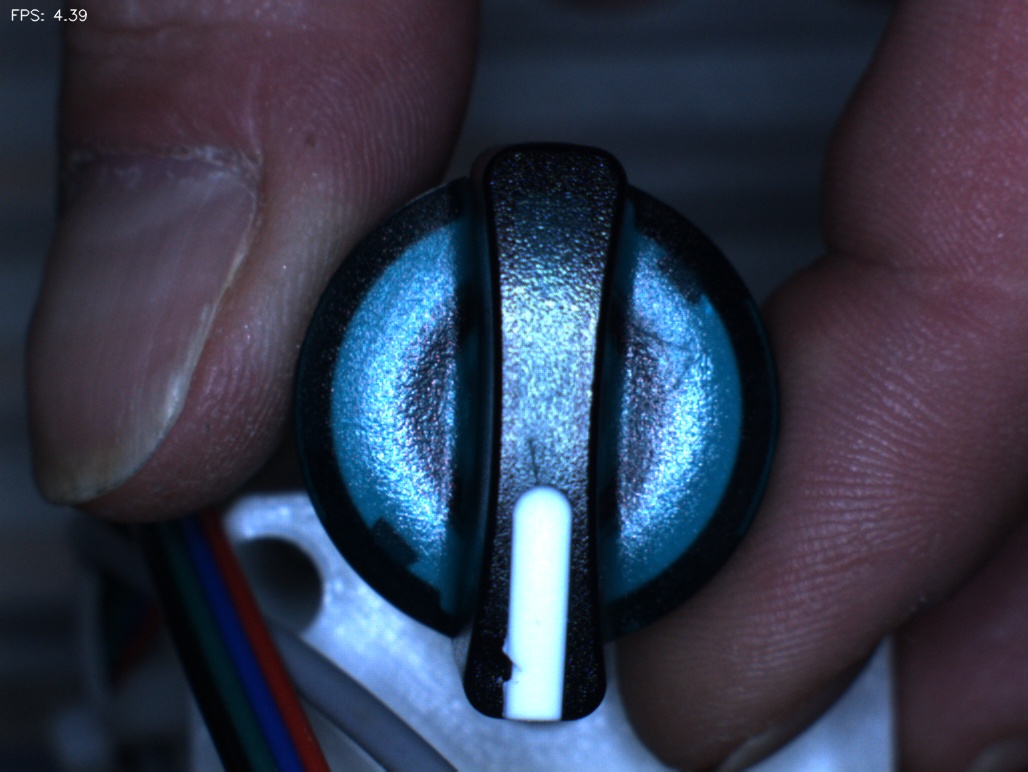Choc: (476, 638, 539, 701)
